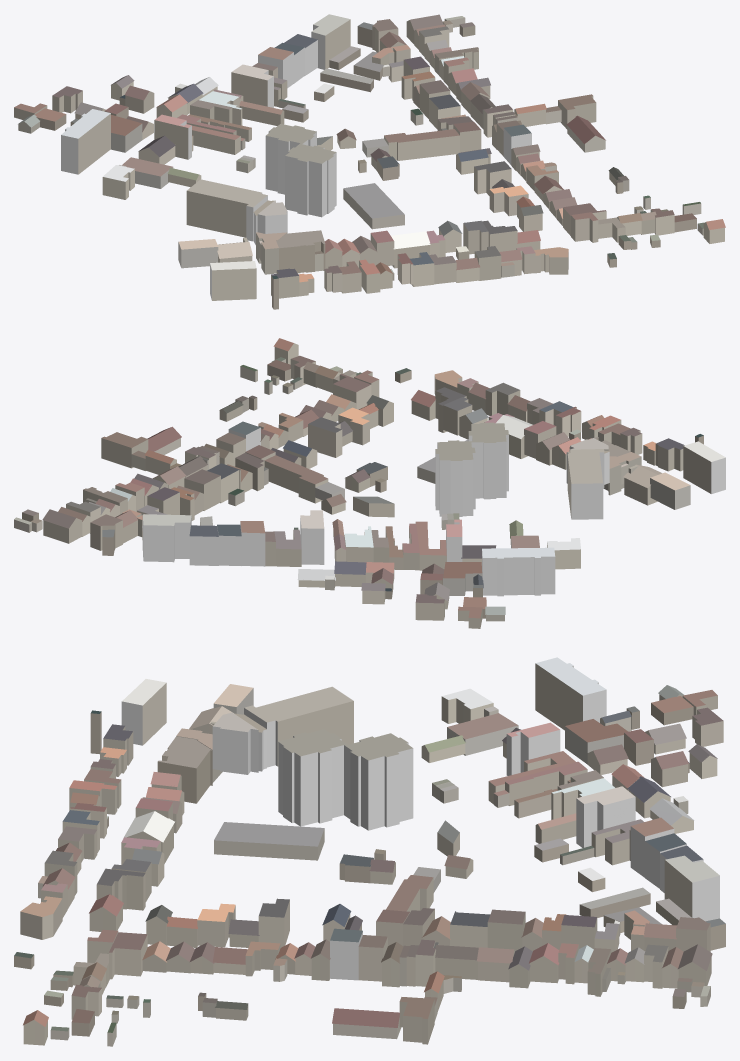
The picture shows the model from 3 angles, top to bottom: view 1: azimuth 30°, elevation 25°; view 2: azimuth 150°, elevation 25°; view 3: azimuth 270°, elevation 25°; orthographic projection. The views are drawn at different scales.
Visible parts, largest first — view 1: tuile; view 2: tuile; view 3: tuile.
Boxes of the visible parts, bbox=[...] form: tuile: bbox=[14, 14, 725, 309]; tuile: bbox=[14, 338, 725, 628]; tuile: bbox=[14, 657, 725, 1046].
Bounding box in the file's own units: 263 × 41.96 × 254.
